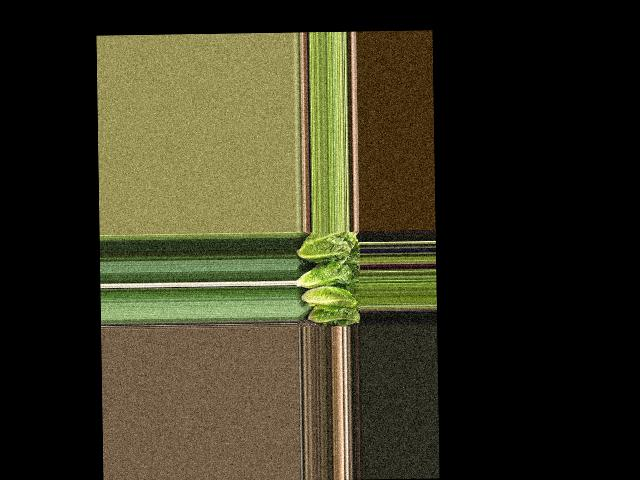lettuce: (309, 307, 360, 322)
